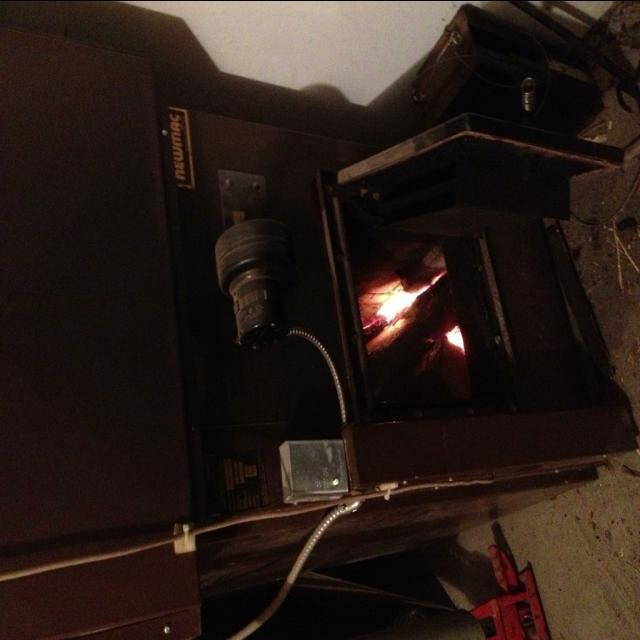Fire: (355, 277, 469, 359)
